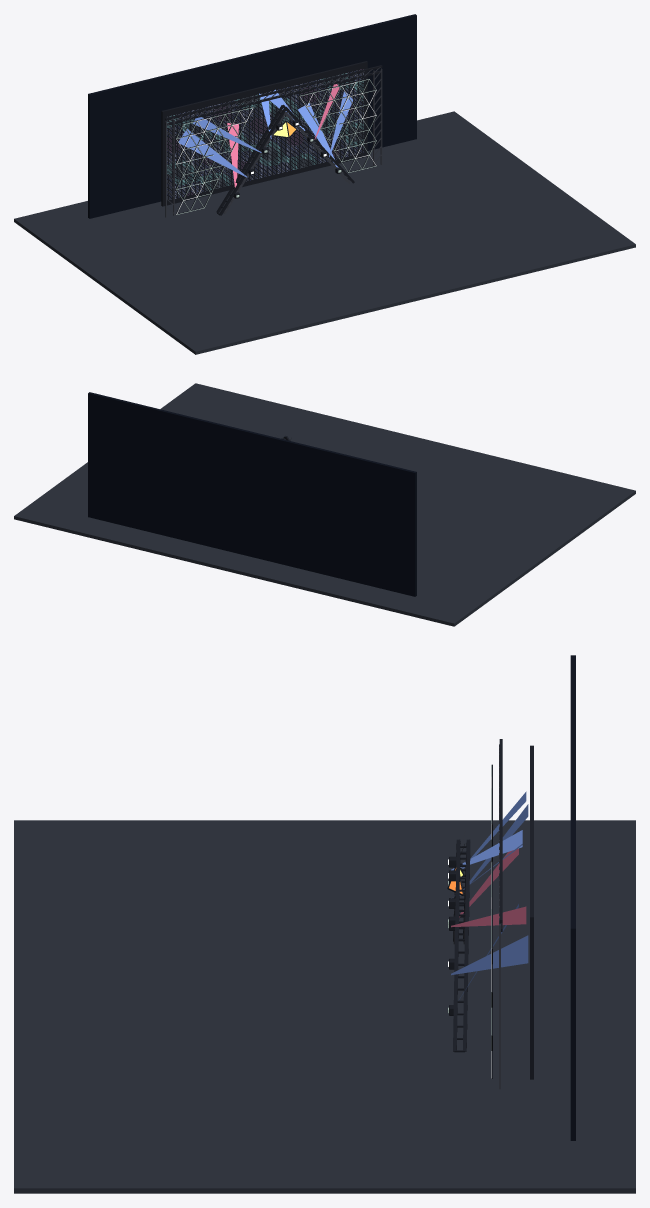
Rendered from venue-alive-pyramid.fbx.
The picture shows the model from 3 angles, top to bottom: view 1: azimuth 30°, elevation 25°; view 2: azimuth 150°, elevation 25°; view 3: azimuth 270°, elevation 25°; orthographic projection. The views are drawn at different scales.
Parts seen in each view (by area): view 1: Front of house floor, Night scrim, LED curtain / perforated black backplane, Rear LED curtain / Alive_CurtainCyan, Overhead black truss.001, Moving head / haze shaft.002, Overhead black truss, Rear LED curtain / Alive_CurtainIndigo, Moving head / haze shaft.007; view 2: Front of house floor, Night scrim; view 3: Front of house floor, Night scrim, LED curtain / perforated black backplane, Moving head / haze shaft.006, Heavy inclined A-frame chord.002, Heavy inclined A-frame chord.003.
Part boxes in pixels (bbox=[...]): Front of house floor: bbox=[14, 111, 635, 354]; Night scrim: bbox=[88, 14, 416, 218]; LED curtain / perforated black backplane: bbox=[161, 61, 367, 206]; Rear LED curtain / Alive_CurtainCyan: bbox=[167, 73, 363, 189]; Overhead black truss.001: bbox=[165, 65, 382, 120]; Moving head / haze shaft.002: bbox=[178, 129, 247, 177]; Overhead black truss: bbox=[165, 70, 381, 125]; Rear LED curtain / Alive_CurtainIndigo: bbox=[167, 73, 363, 198]; Moving head / haze shaft.007: bbox=[298, 103, 338, 167]; Front of house floor: bbox=[14, 383, 635, 626]; Night scrim: bbox=[88, 392, 416, 596]; Front of house floor: bbox=[14, 820, 635, 1193]; Night scrim: bbox=[570, 655, 575, 1140]; LED curtain / perforated black backplane: bbox=[530, 745, 533, 1079]; Moving head / haze shaft.006: bbox=[451, 935, 528, 975]; Heavy inclined A-frame chord.002: bbox=[453, 840, 460, 1051]; Heavy inclined A-frame chord.003: bbox=[463, 840, 470, 1051].
Bounding box in the file's own units: 35 × 25 × 10.
